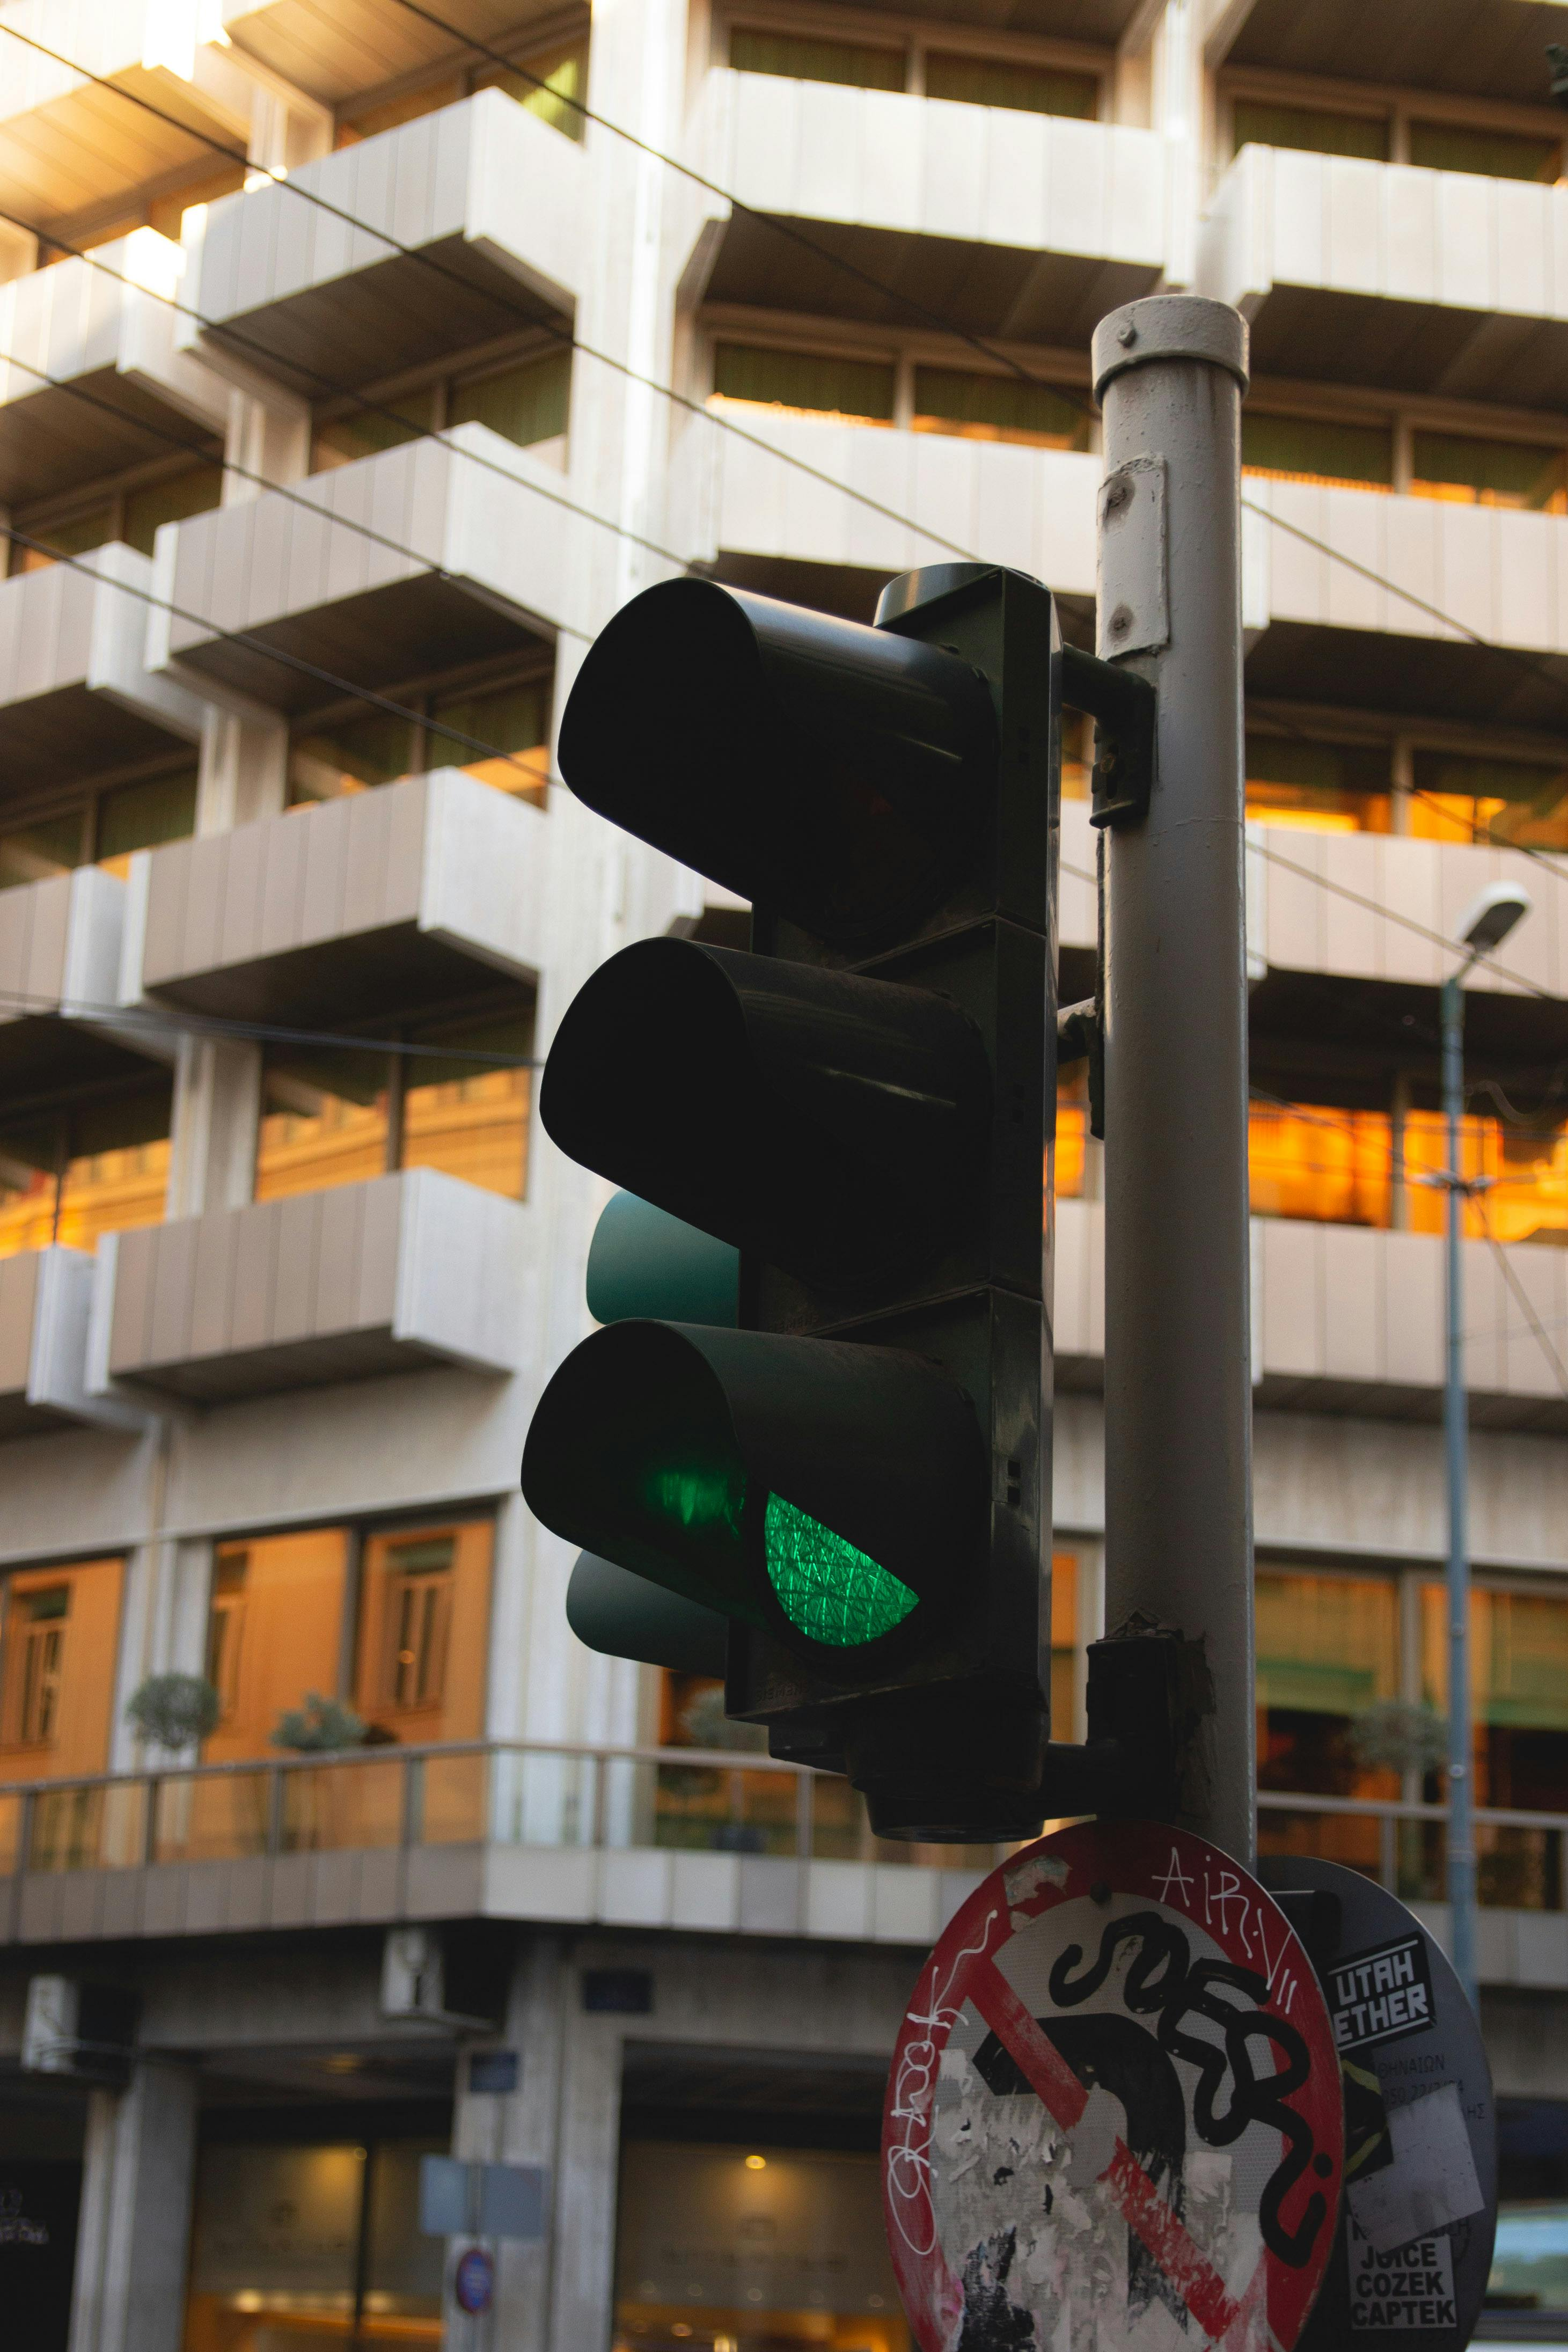trfl: (572, 570, 1076, 1745)
